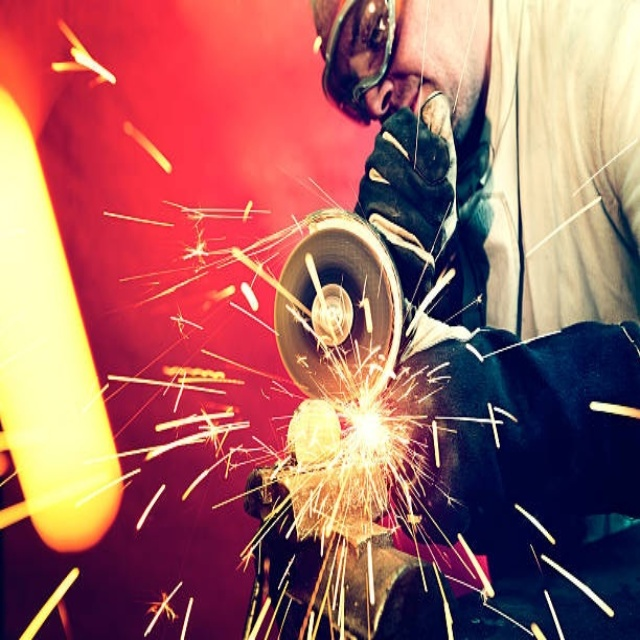Gafas: (323, 0, 404, 118)
Guantes: (356, 97, 463, 287)
Sin_mascara: (404, 72, 431, 110)
